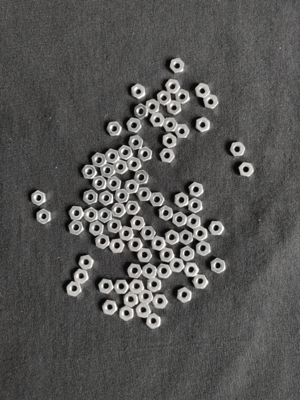nut: (136, 303, 152, 319), (102, 300, 118, 316), (203, 94, 219, 110), (146, 313, 161, 329), (124, 292, 139, 308), (177, 287, 192, 303), (193, 275, 209, 290), (99, 279, 114, 295), (129, 279, 144, 295), (147, 277, 162, 293), (211, 258, 226, 274), (127, 264, 143, 279), (37, 209, 52, 225), (31, 191, 47, 206), (137, 248, 153, 263), (196, 241, 211, 257), (95, 234, 110, 250), (109, 239, 125, 254), (119, 226, 134, 242), (107, 219, 123, 234), (130, 216, 146, 231), (99, 191, 114, 207), (189, 182, 204, 198), (230, 142, 246, 157), (134, 170, 150, 185), (118, 145, 133, 161), (126, 118, 142, 133), (196, 117, 211, 133), (196, 83, 211, 99), (170, 58, 185, 74), (127, 238, 144, 252), (153, 294, 168, 309), (67, 282, 82, 297), (74, 269, 89, 284), (79, 255, 94, 270), (157, 264, 172, 279), (170, 258, 185, 273), (160, 248, 175, 263), (69, 221, 84, 236), (69, 206, 84, 221), (151, 236, 166, 251), (89, 221, 104, 236), (141, 226, 156, 241), (111, 203, 126, 218), (125, 201, 140, 216), (83, 190, 98, 205), (115, 189, 130, 204), (188, 199, 203, 214), (137, 187, 152, 202), (125, 180, 140, 195), (107, 177, 122, 192), (92, 176, 107, 191), (82, 165, 97, 180), (92, 153, 107, 168), (113, 160, 128, 175), (127, 157, 142, 172), (105, 149, 120, 164), (129, 135, 144, 150), (160, 148, 175, 163), (107, 122, 122, 137), (175, 124, 190, 139), (175, 90, 190, 105), (120, 306, 134, 322), (143, 263, 157, 279), (183, 263, 199, 277), (181, 246, 195, 262), (165, 230, 179, 246), (194, 226, 208, 242), (98, 208, 112, 224), (173, 212, 187, 228), (149, 193, 165, 207), (100, 164, 116, 178), (135, 104, 149, 120), (132, 84, 146, 100), (139, 290, 153, 305), (114, 280, 129, 294), (84, 208, 98, 223), (159, 206, 173, 221), (187, 214, 201, 229), (175, 193, 189, 208), (239, 163, 254, 177), (138, 147, 152, 162), (163, 134, 177, 149), (163, 118, 178, 132), (150, 113, 165, 127), (146, 99, 160, 114), (167, 101, 181, 116), (158, 91, 172, 106), (166, 80, 181, 94), (209, 222, 225, 235), (180, 230, 193, 245)
